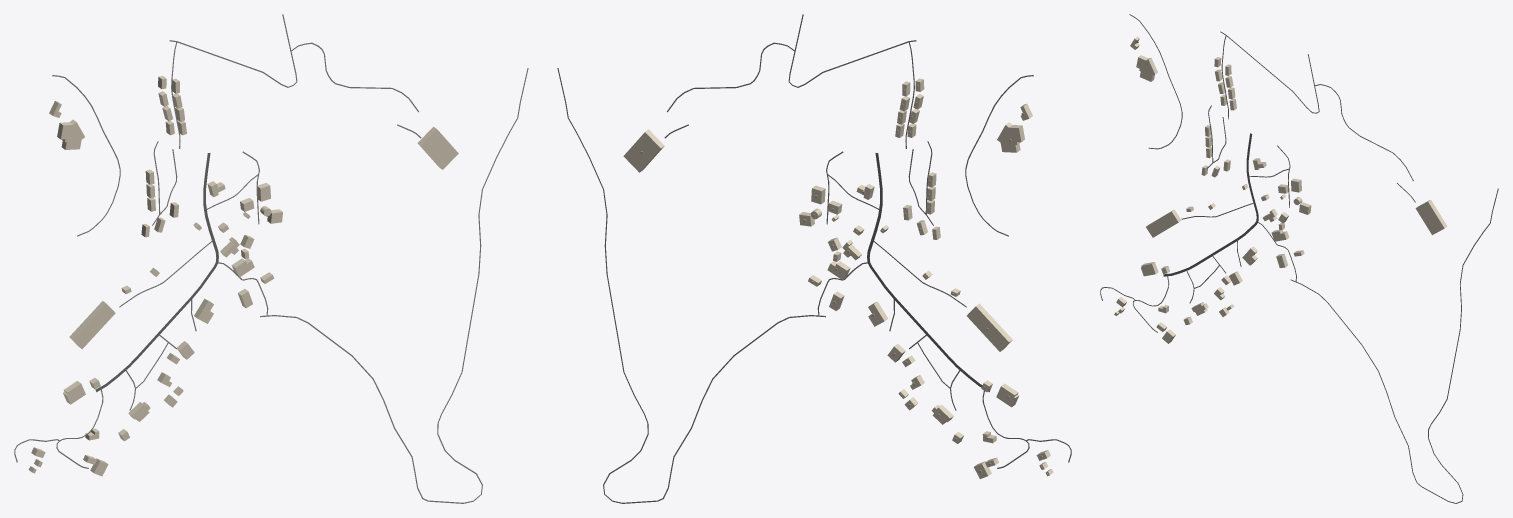
The model's file is historic-palestine-11_27_3531_3216.glb.
3 renders of one model, left to right at view 1: azimuth 30°, elevation 25°; view 2: azimuth 150°, elevation 25°; view 3: azimuth 330°, elevation 25°, orthographic. The views are drawn at different scales.
Parts seen in each view (by area): view 1: Road, Building_.029, Road .008, Building_.016, Building_; view 2: Road, Building_.029, Building_.016, Road .008, Building_; view 3: Road, Building_.016, Road .008, Building_.029.
Part boxes in pixels (bbox=[...]): Road: bbox=[260, 68, 528, 503]; Building_.029: bbox=[69, 301, 115, 349]; Road .008: bbox=[95, 153, 218, 392]; Building_.016: bbox=[417, 126, 458, 169]; Building_: bbox=[57, 119, 84, 149]; Road: bbox=[557, 68, 825, 503]; Building_.029: bbox=[967, 303, 1012, 351]; Building_.016: bbox=[623, 129, 664, 172]; Road .008: bbox=[867, 153, 990, 392]; Building_: bbox=[997, 122, 1024, 152]; Road: bbox=[1290, 188, 1498, 503]; Building_.016: bbox=[1415, 199, 1447, 235]; Road .008: bbox=[1163, 133, 1258, 276]; Building_.029: bbox=[1146, 209, 1181, 237].
Size of the model in its own units: 591 by 588 by 8.7.
